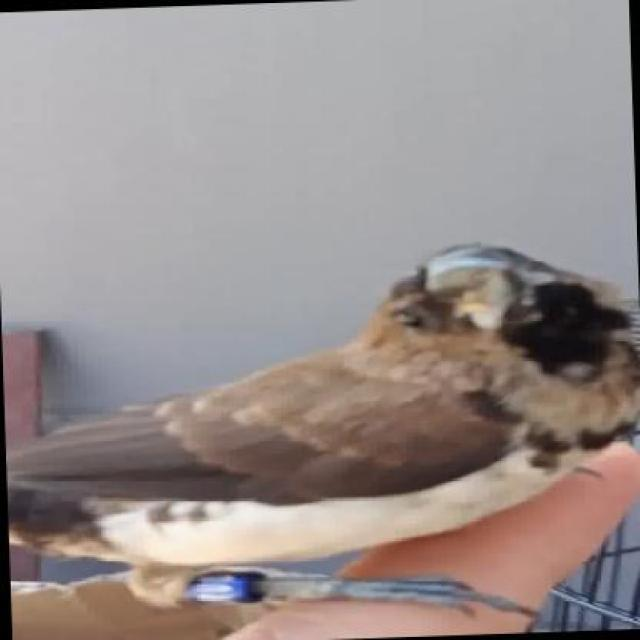Bird: (0, 231, 640, 602)
